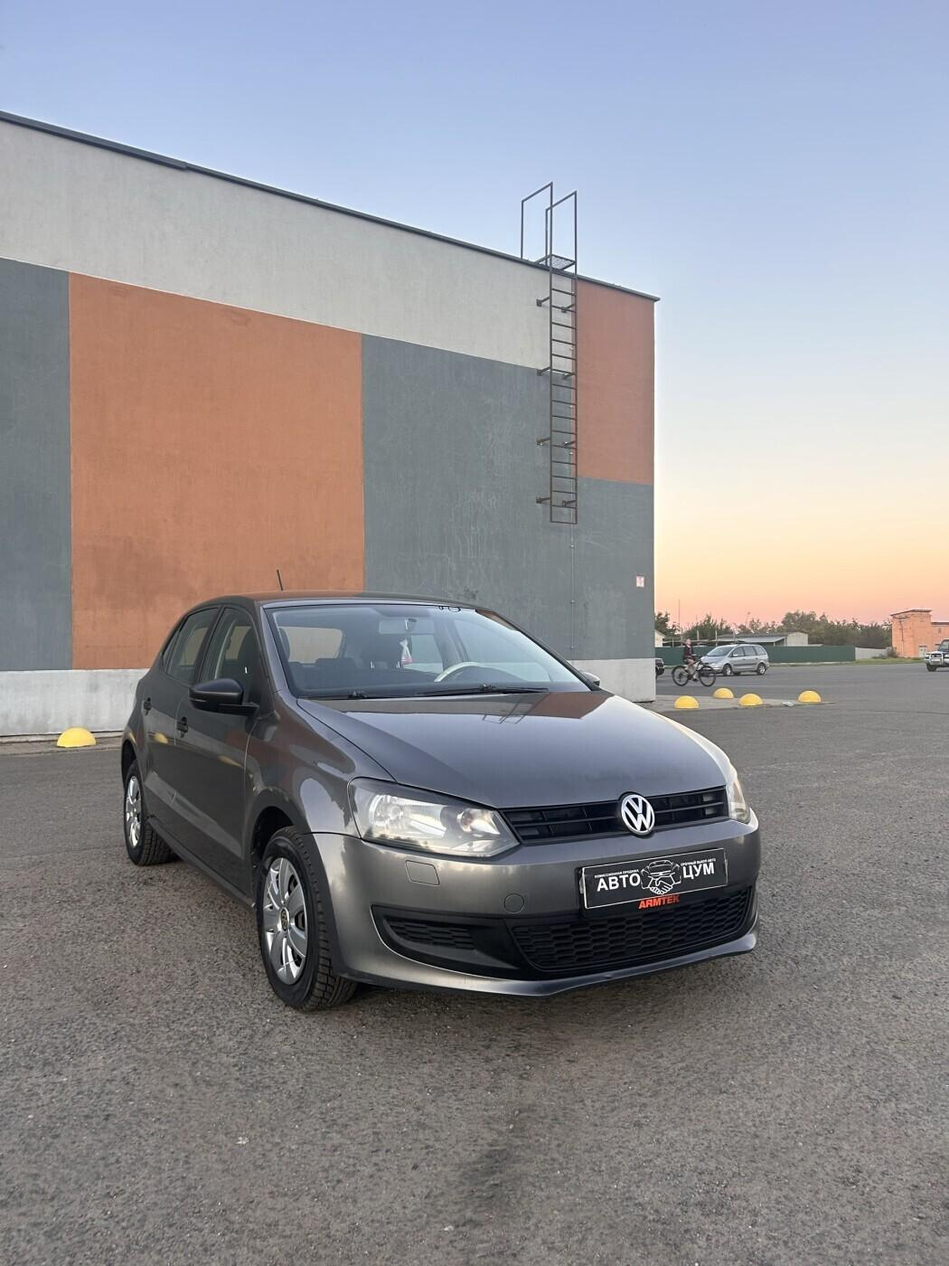Polo_2009-2015: (119, 571, 768, 1044)
